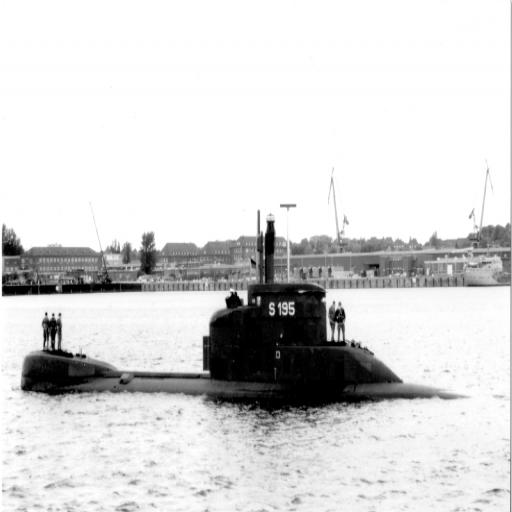submarine: (21, 282, 471, 409)
